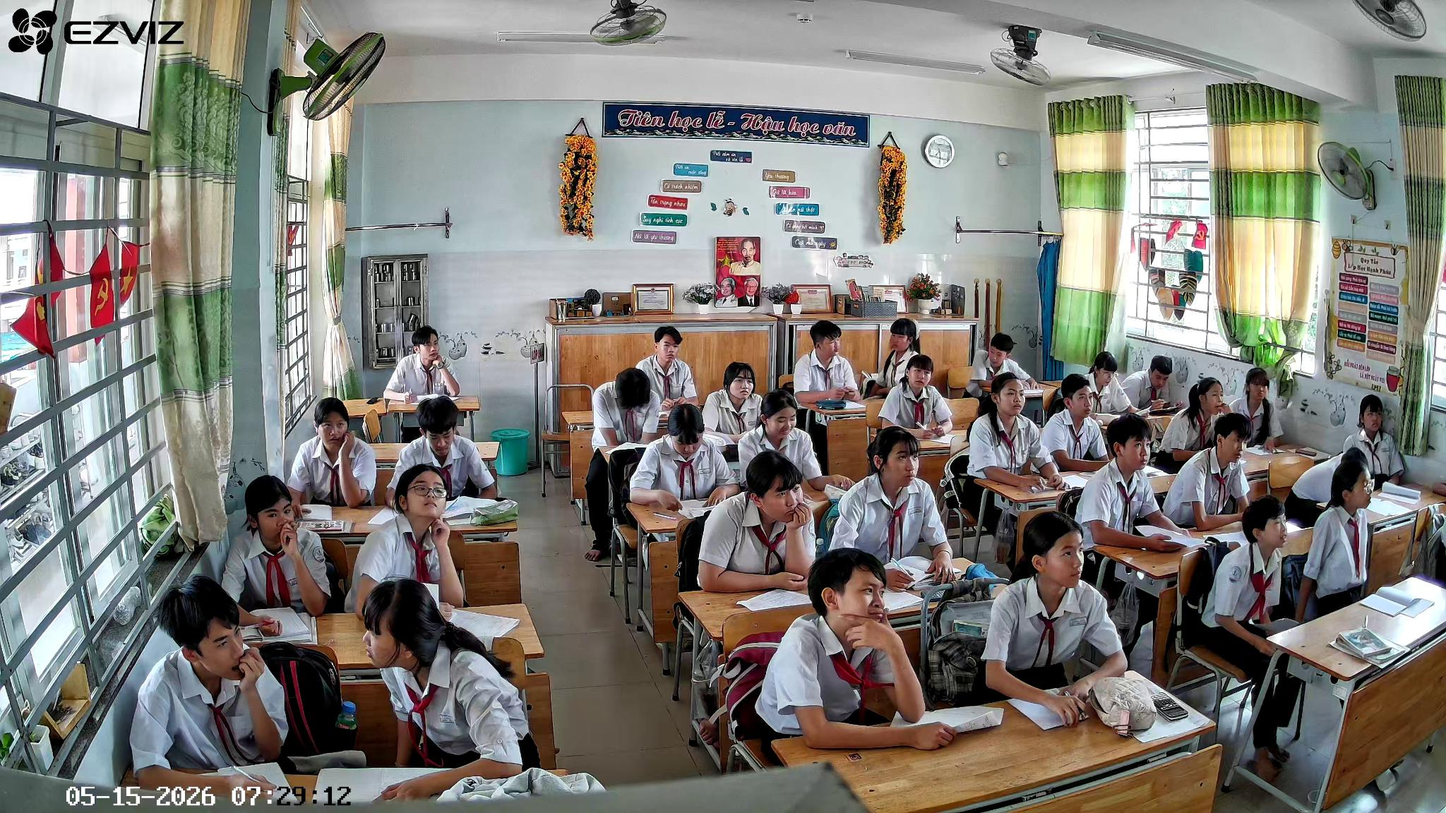person: (755, 548, 957, 751), (358, 577, 539, 802), (126, 577, 294, 812), (977, 512, 1129, 727), (1188, 495, 1303, 776), (200, 475, 337, 637), (832, 427, 957, 589), (346, 466, 467, 620), (1073, 414, 1202, 552), (696, 450, 817, 594), (965, 373, 1062, 537), (582, 367, 663, 562), (737, 388, 851, 504), (1295, 460, 1375, 623), (386, 396, 499, 507), (629, 404, 740, 512), (1161, 413, 1255, 532), (285, 397, 378, 510), (794, 320, 862, 461), (383, 325, 460, 441), (1154, 377, 1234, 474), (1038, 373, 1111, 477), (1284, 447, 1370, 528), (1338, 393, 1407, 490), (877, 354, 953, 440), (634, 326, 700, 414), (964, 333, 1038, 409), (1227, 367, 1290, 453), (703, 363, 763, 448), (860, 318, 922, 400), (1117, 355, 1178, 415), (1081, 352, 1137, 416)
